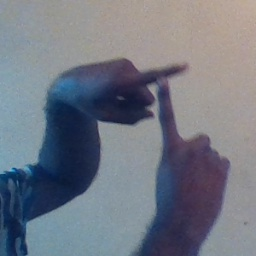T: (114, 48, 211, 161)
